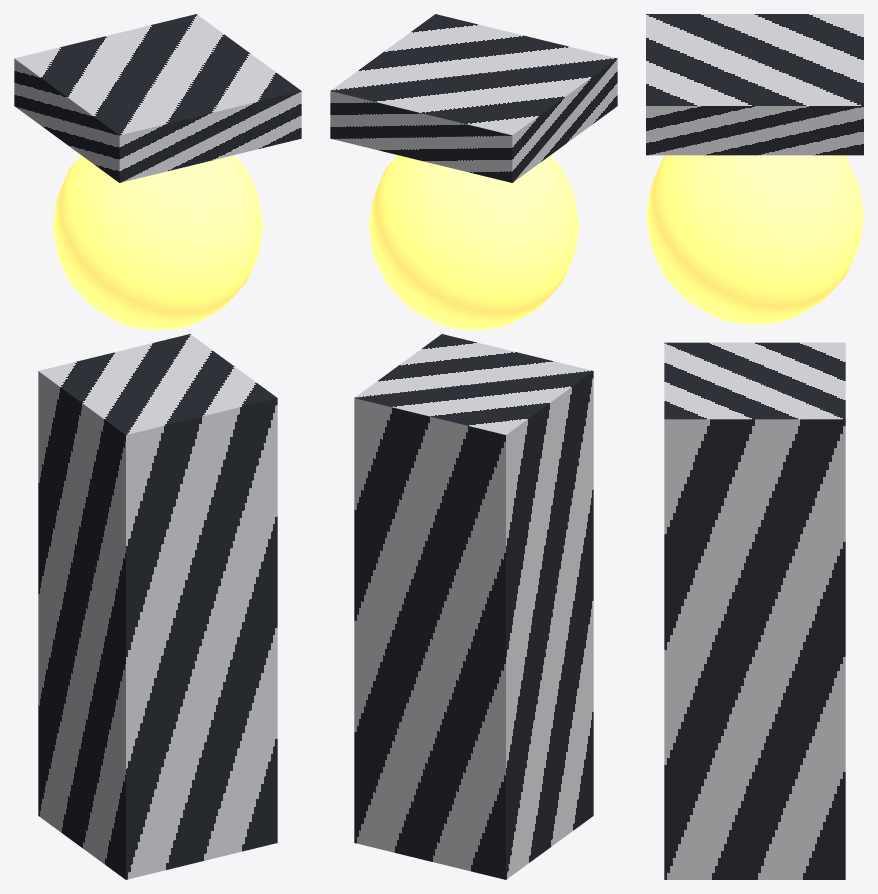
File: beacon.glb
3 views of the same model, side by side, from view 1: azimuth 30°, elevation 25°; view 2: azimuth 150°, elevation 25°; view 3: azimuth 270°, elevation 25° (orthographic). The views are drawn at different scales.
Visible parts, largest first — view 1: Beacon, Cap; view 2: Beacon, Cap; view 3: Beacon, Cap.
Part boxes in pixels (box(x1,y1,x2,y2)): Beacon: box(38, 155, 277, 879); Cap: box(14, 14, 301, 182); Beacon: box(354, 155, 593, 879); Cap: box(330, 14, 617, 182); Beacon: box(646, 155, 863, 879); Cap: box(646, 14, 863, 155).
Bounding box in the file's own units: 0.6 × 2.37 × 0.6.
2 materials, 1 textured.
